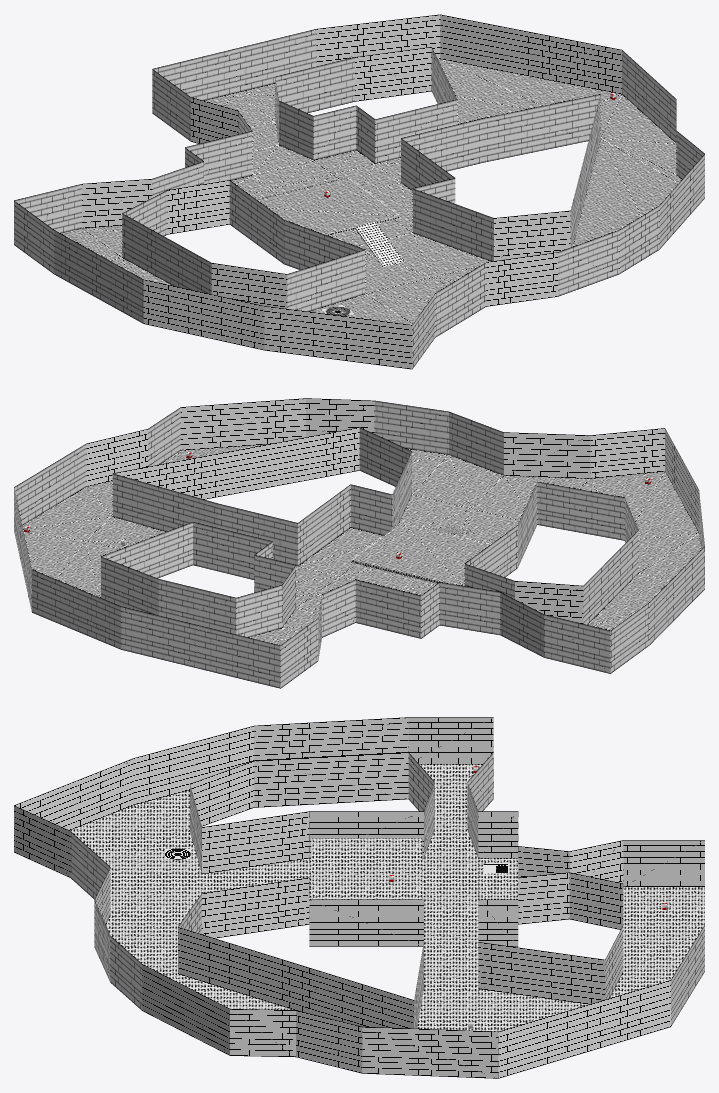
File: level1.obj
3 views of the same model, one above another, from view 1: azimuth 30°, elevation 25°; view 2: azimuth 150°, elevation 25°; view 3: azimuth 270°, elevation 25° (orthographic). The views are drawn at different scales.
Visible parts, largest first — view 1: Plane; view 2: Plane; view 3: Plane.
Part boxes in pixels (bbox=[...]): Plane: bbox=[14, 14, 704, 369]; Plane: bbox=[14, 398, 704, 688]; Plane: bbox=[14, 717, 704, 1078].
Size of the model in its own units: 58.41 by 4.15 by 54.25.
Materials: 7 (7 with a texture image).
